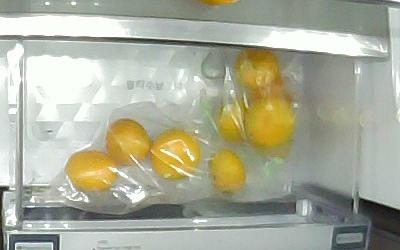tangerine_vinyl: (247, 96, 295, 155), (149, 129, 200, 181), (106, 118, 153, 167), (65, 150, 118, 192), (230, 50, 283, 88), (210, 150, 248, 199), (216, 99, 249, 146)
